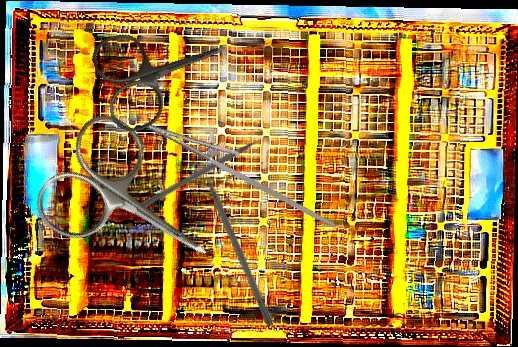Iris Scissors: (25, 103, 242, 310), (86, 2, 243, 138)
Needle Holder: (133, 106, 351, 229)
Pusher: (195, 154, 276, 328), (136, 128, 279, 212)
